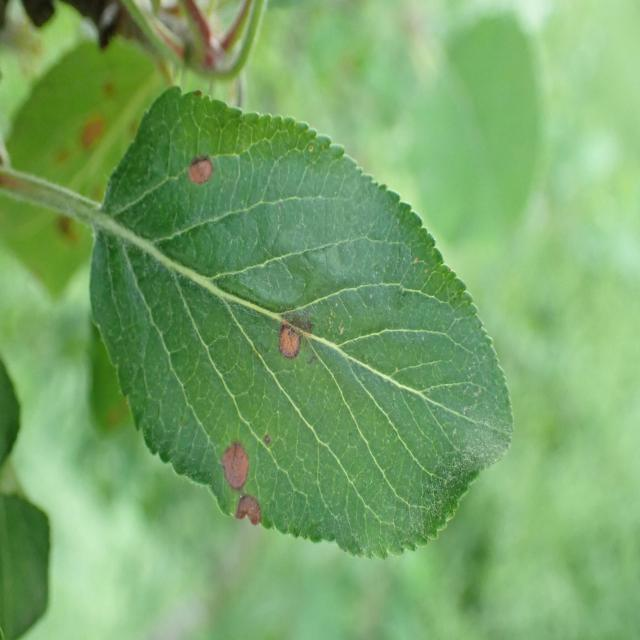Black Rot: (213, 434, 274, 527), (266, 298, 316, 384), (180, 136, 219, 206)
